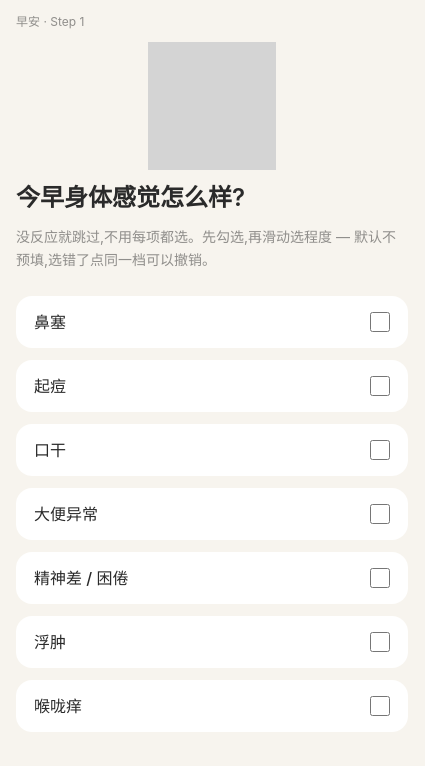
Test: U7 Step 1 盲打卡 › Round 2 修订: 勾选后滑块出现,severity 默认 null,UI 提示"请选一个程度"
Click the checkbox with test id "engage-nasal_congestion". click: [380, 322]
box: [370, 312, 390, 332]
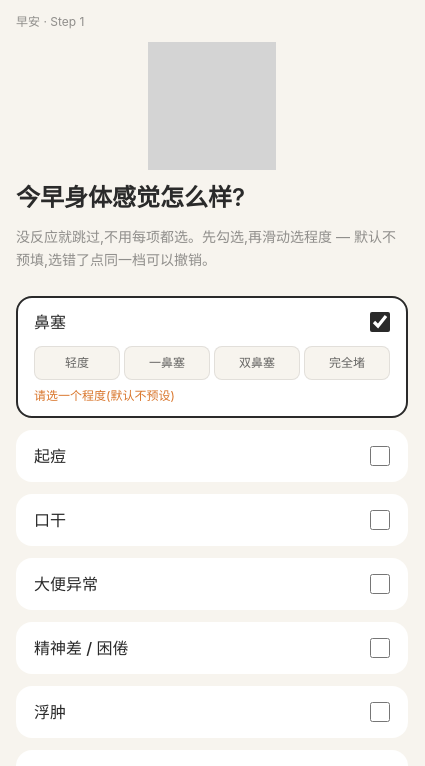
expect the radio button with test id "level-nasal_congestion-1" is shown: met, box [34, 346, 120, 380]
expect the radio button with test id "level-nasal_congestion-4" is shown: met, box [304, 346, 390, 380]
expect the text "请选一个程度(默认不预设)" is shown: met, box [34, 388, 175, 402]
